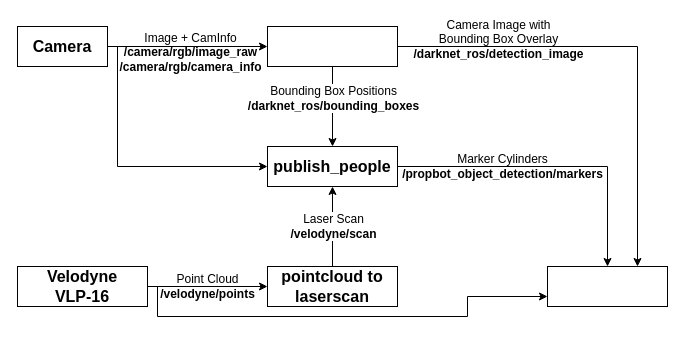
The diagram is 685 pixels wide and 342 high, and some of its shapes have lost their labels. The shapes that lost their labels are listed below. From the top down, each one's box as (x1, y1, x2, y2) in pixels, then its label:
(266, 26, 398, 66): darknet_ros
(546, 266, 668, 306): Rviz
